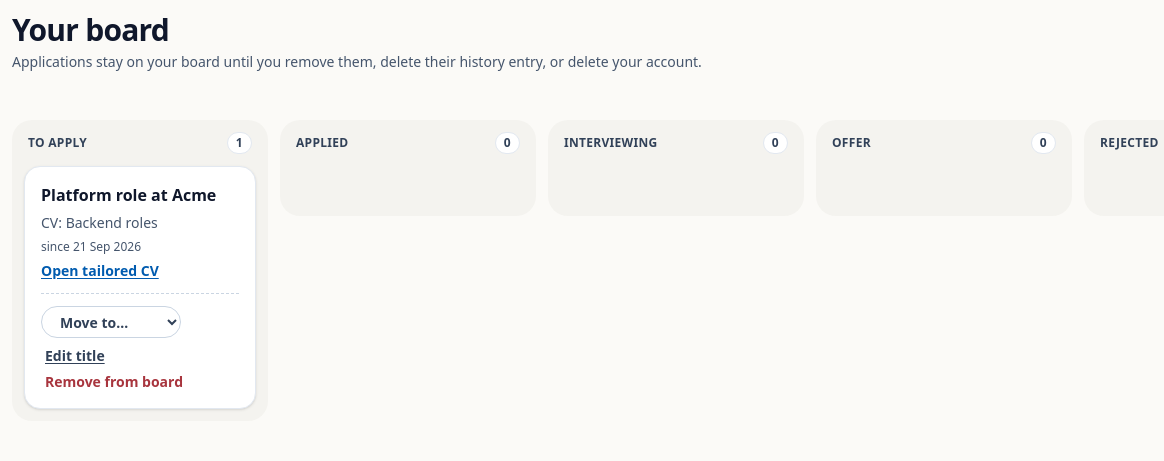
it: A refused move rolls back with its own copy (AC-34) › 429 rate_limited: the card goes back from the snapshot (the refetch hangs) and the reason is an alert
This screenshot has width=1164, height=461.
expect the text "Platform role at Acme" is shown: met, box top-left (41, 183), bottom-right (239, 207)
Select "Interviewing" in the dropdown named "move to". click: (111, 322)
box: top-left (41, 306), bottom-right (181, 338)
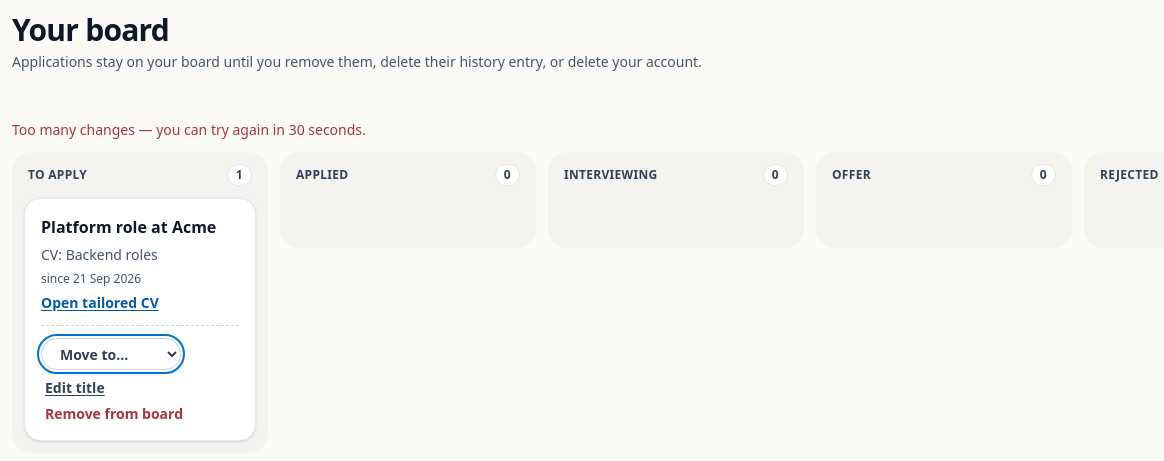
expect the message reads "Too many changes — you can try again in 30 seconds.": met, box top-left (12, 120), bottom-right (366, 139)
